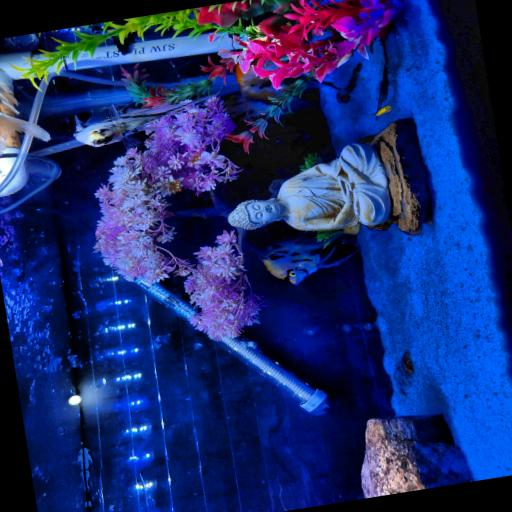Fish: (75, 96, 209, 145), (263, 241, 357, 284), (0, 81, 50, 154), (374, 39, 391, 118), (5, 34, 39, 48), (374, 105, 392, 115)
